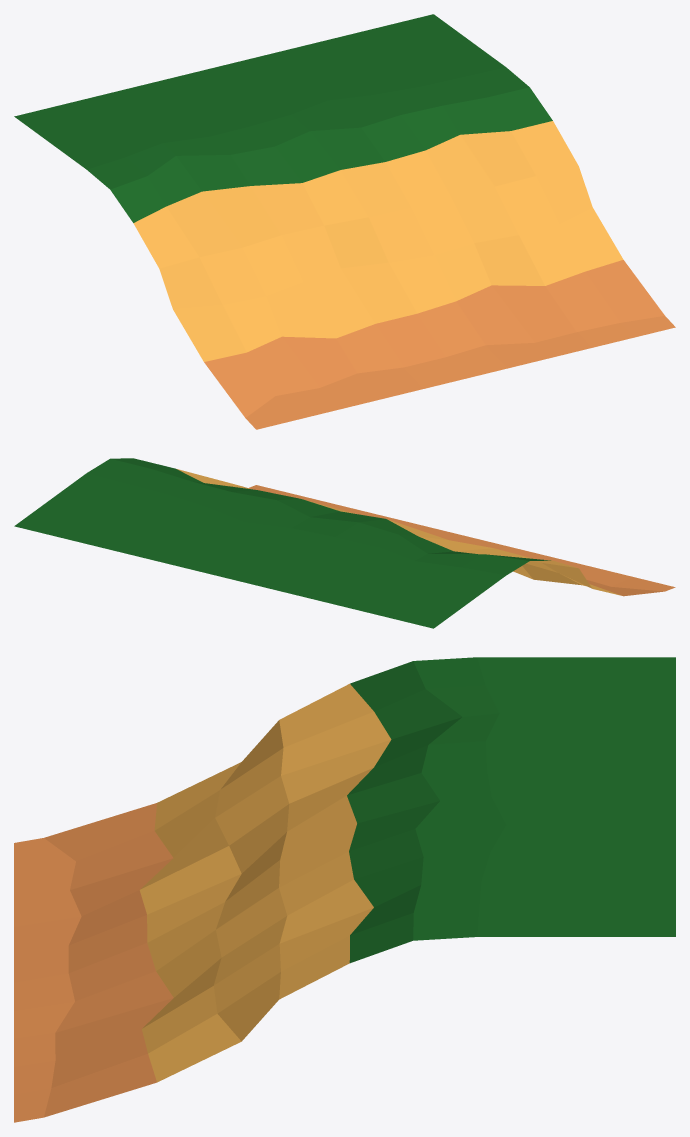
Rendered from Playa.fbx.
3 renders of one model, top to bottom at view 1: azimuth 30°, elevation 25°; view 2: azimuth 150°, elevation 25°; view 3: azimuth 270°, elevation 25°, orthographic. The views are drawn at different scales.
Visible parts, largest first — view 1: Playa; view 2: Playa; view 3: Playa.
Boxes of the visible parts, x1,y1,x2,y2 form: Playa: (14, 14, 675, 429); Playa: (14, 458, 675, 628); Playa: (14, 657, 675, 1122).
Size of the model in its own units: 2000 by 619 by 2000.
